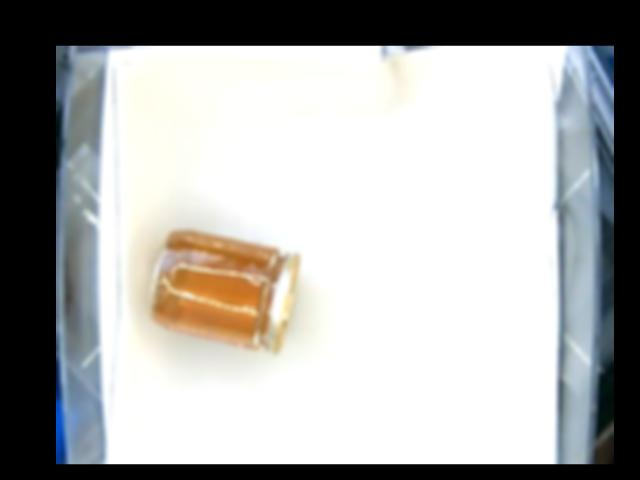Bottle: (150, 227, 300, 357)
